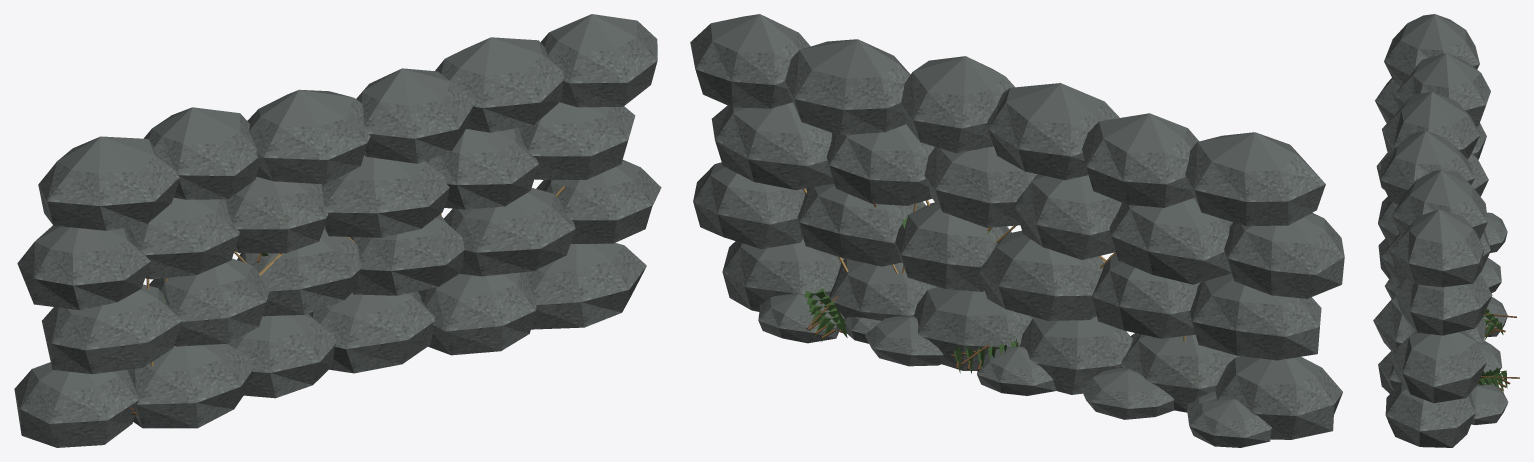
Rendered from en-012_rock_wall_module__straight.obj.
3 renders of one model, left to right at view 1: azimuth 30°, elevation 25°; view 2: azimuth 150°, elevation 25°; view 3: azimuth 270°, elevation 25°, orthographic. The views are drawn at different scales.
Parts seen in each view (by area): view 1: en-012_rock_wall_module__straight; view 2: en-012_rock_wall_module__straight; view 3: en-012_rock_wall_module__straight.
Part boxes in pixels (x1,y1,x2,y2): en-012_rock_wall_module__straight: [14, 14, 661, 447]; en-012_rock_wall_module__straight: [690, 14, 1344, 447]; en-012_rock_wall_module__straight: [1373, 14, 1519, 447].
Size of the model in its own units: 4.04 by 1.71 by 0.988.
Materials: 4 (4 with a texture image).
